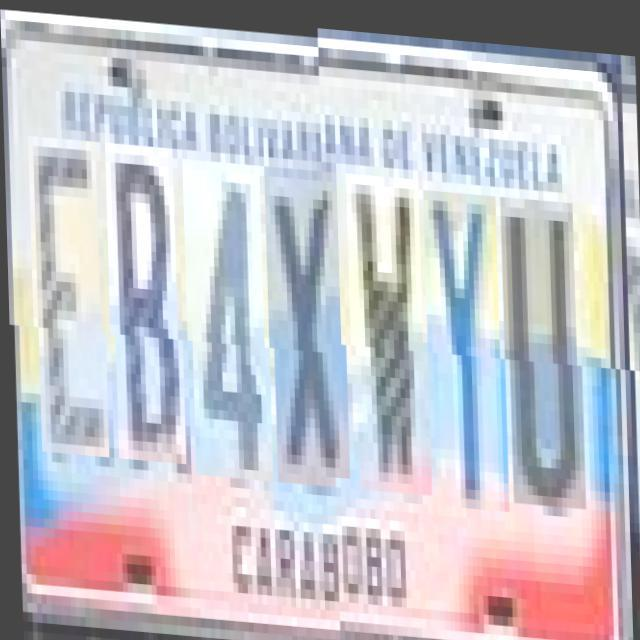4: (187, 156, 270, 476)
B: (109, 142, 184, 462)
E: (32, 136, 107, 456)
U: (504, 197, 584, 508)
W: (350, 177, 429, 497)
X: (268, 162, 348, 482)
Y: (428, 192, 507, 512)
